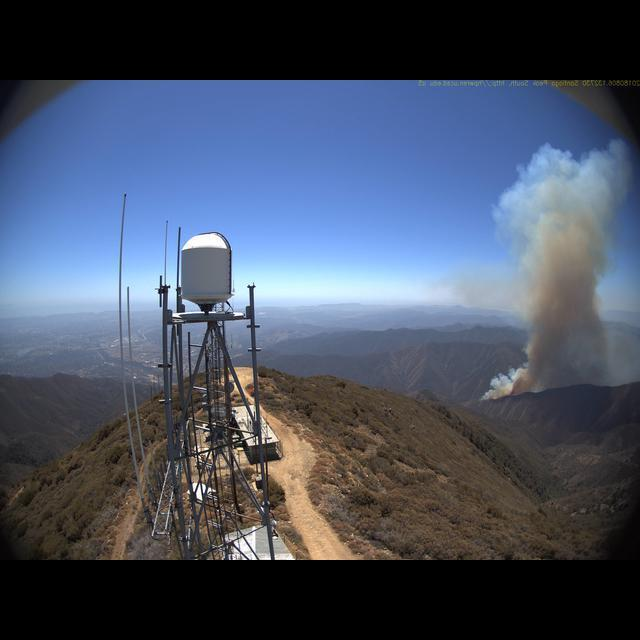Smoke: (478, 136, 639, 402)
